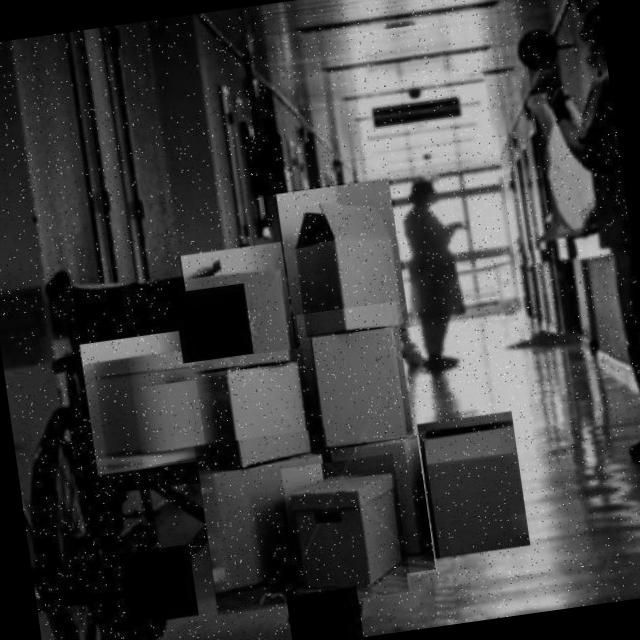box: (193, 428, 349, 616), (274, 176, 413, 347), (79, 326, 218, 479), (281, 453, 414, 609), (296, 301, 416, 459), (416, 409, 534, 562), (191, 348, 320, 480), (178, 240, 300, 376), (329, 434, 438, 584)
